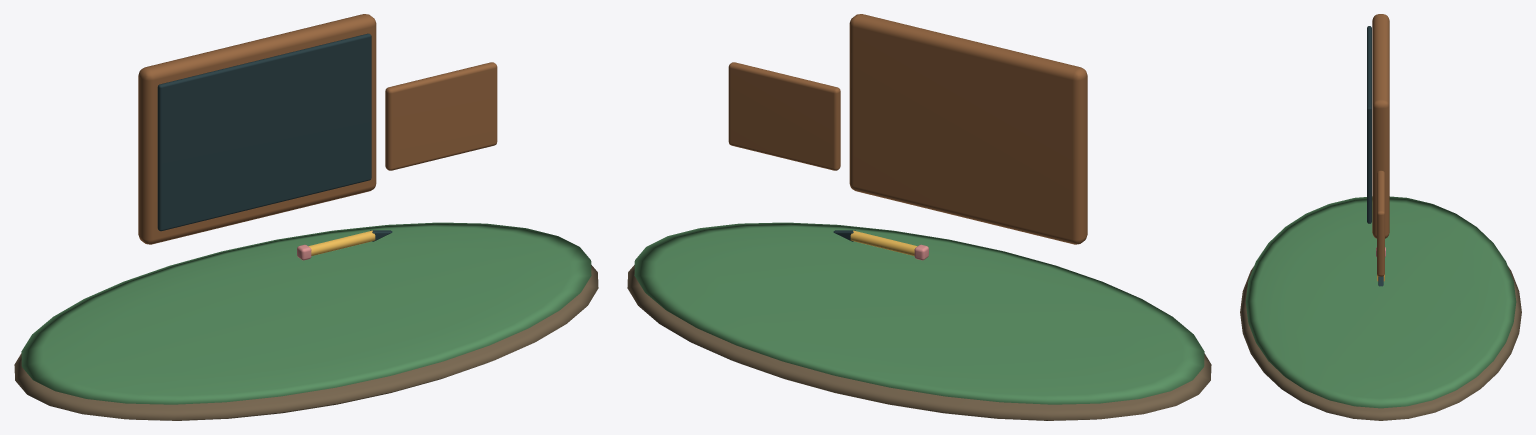
File: school-blackboard.glb
The picture shows the model from 3 angles, left to right: view 1: azimuth 30°, elevation 25°; view 2: azimuth 150°, elevation 25°; view 3: azimuth 270°, elevation 25°; orthographic projection. The views are drawn at different scales.
Parts seen in each view (by area): view 1: school-blackboard_surface_01, school-blackboard_surface_03, school-blackboard_surface_02, school-blackboard_surface_00, school-blackboard_surface_04; view 2: school-blackboard_surface_01, school-blackboard_surface_02, school-blackboard_surface_00, school-blackboard_surface_04; view 3: school-blackboard_surface_01, school-blackboard_surface_00, school-blackboard_surface_02, school-blackboard_surface_03.
Boxes of the visible parts, x1=… form: school-blackboard_surface_01: x1=21, y1=222, x2=591, y2=404; school-blackboard_surface_03: x1=157, y1=33, x2=392, y2=241; school-blackboard_surface_02: x1=138, y1=14, x2=497, y2=244; school-blackboard_surface_00: x1=14, y1=265, x2=598, y2=420; school-blackboard_surface_04: x1=308, y1=230, x2=375, y2=255; school-blackboard_surface_01: x1=634, y1=222, x2=1204, y2=404; school-blackboard_surface_02: x1=728, y1=14, x2=1087, y2=244; school-blackboard_surface_00: x1=627, y1=265, x2=1211, y2=420; school-blackboard_surface_04: x1=850, y1=230, x2=917, y2=255; school-blackboard_surface_01: x1=1245, y1=196, x2=1516, y2=408; school-blackboard_surface_00: x1=1240, y1=266, x2=1521, y2=420; school-blackboard_surface_02: x1=1372, y1=14, x2=1389, y2=276; school-blackboard_surface_03: x1=1367, y1=26, x2=1383, y2=286.
Size of the model in its own units: 4.56 by 2.44 by 2.5.
